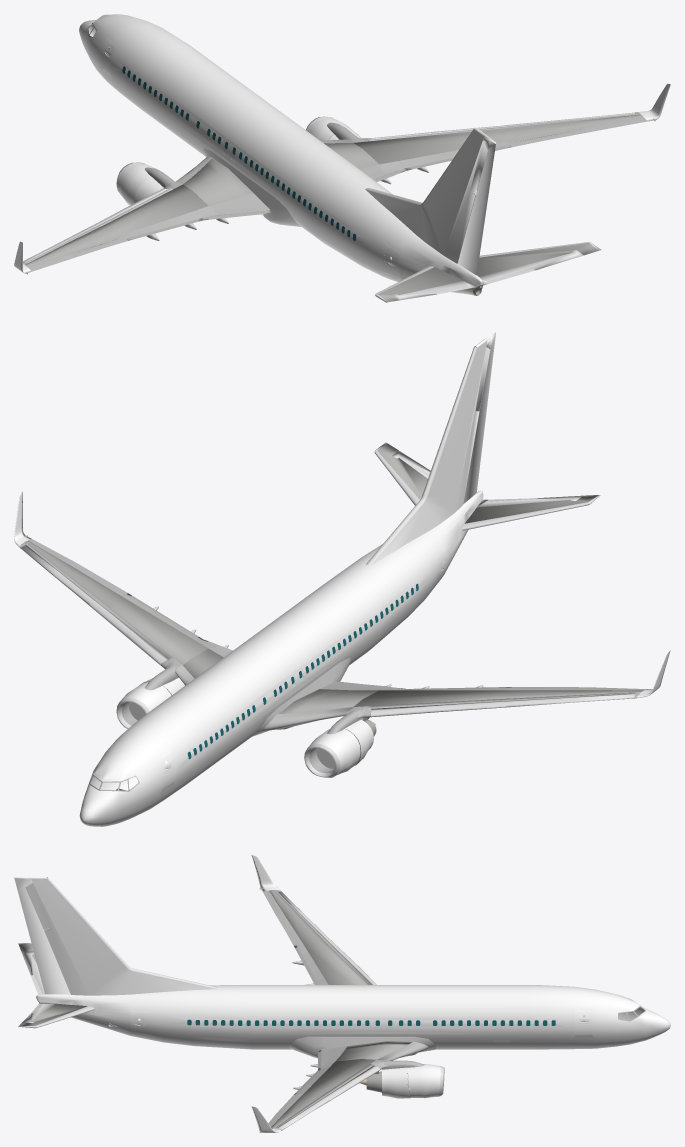
The picture shows the model from 3 angles, top to bottom: view 1: azimuth 30°, elevation 25°; view 2: azimuth 150°, elevation 25°; view 3: azimuth 270°, elevation 25°; orthographic projection. The views are drawn at different scales.
Parts seen in each view (by area): view 1: fuselage, vstab, obwing.001, obwing, rudder, winginbd, rhstab, lhstab, lhfairing, windowslh, engnose.001, panel1upper (+9 smaller); view 2: fuselage, vstab, obwing.001, obwing, lhstab, winginbd, rudder, vstable, rhstab, engnose.001, windowslh, ible (+3 smaller); view 3: fuselage, vstab, obwing, rudder, obwing.001, rhwtobfairing, windowsrh, No2engfancase, winginbd.001, rhstab, No2reverser, WingletL (+3 smaller).
Boxes of the visible parts, x1,y1,x2,y2 form: fuselage: (79,14,482,295); vstab: (366,127,495,263); obwing.001: (354,114,642,164); obwing: (25,184,208,267); rudder: (457,137,495,275); winginbd: (183,158,253,205); rhstab: (477,242,600,276); lhstab: (375,266,462,302); lhfairing: (203,148,300,226); windowslh: (122,66,355,240); engnose.001: (116,162,155,205); panel1upper: (195,193,269,217); fuselage: (79,490,483,826); vstab: (372,331,496,564); obwing.001: (25,541,208,665); obwing: (354,690,643,706); lhstab: (462,495,600,530); winginbd: (278,689,378,713); rudder: (463,333,495,503); vstable: (366,346,476,565); rhstab: (374,442,427,505); engnose.001: (309,728,360,777); windowslh: (187,583,418,759); ible: (263,706,366,731); fuselage: (36,985,670,1049); vstab: (14,877,215,995); obwing: (269,890,367,984); rudder: (14,878,70,994); obwing.001: (271,1059,376,1128); rhwtobfairing: (289,1036,436,1058); windowsrh: (187,1019,555,1025); No2engfancase: (408,1064,440,1098); winginbd.001: (335,1041,412,1061); rhstab: (18,1003,94,1028); No2reverser: (382,1067,410,1098); WingletL: (251,855,280,1132).
Bounding box in the file's own units: 35.69 × 12.11 × 39.42.
